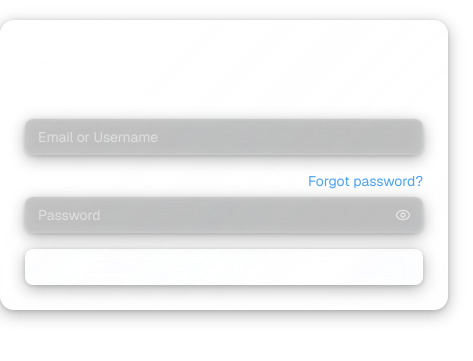
Test: LoginPage › shows authenticator step when login requires two-factor
Type "user@test.com" into the field with placeholder "Email or username" at (224, 137), box [25, 119, 423, 155]
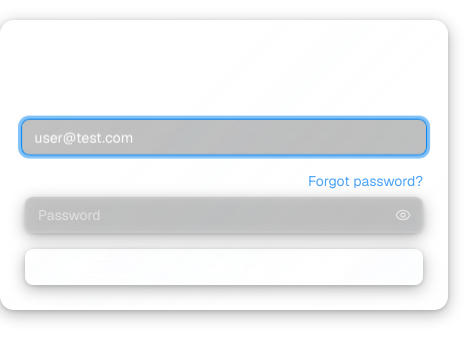
Type "secret" into the password field with placeholder "Password" at (224, 215), box [25, 197, 423, 233]
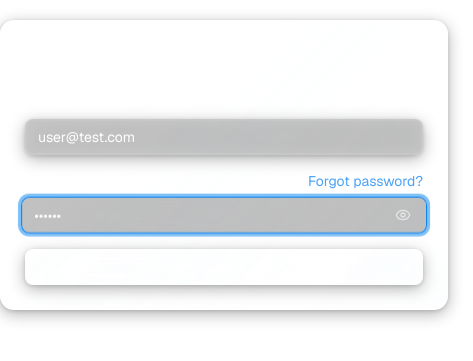
Click the button "Sign in" at (224, 267), box [25, 249, 423, 285]
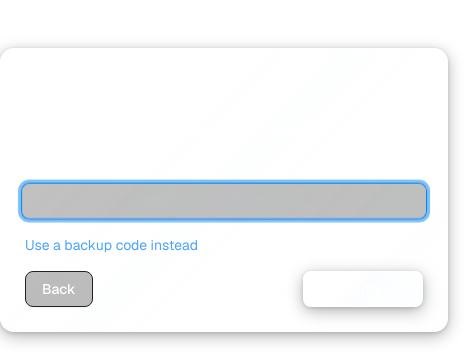
Expected: the field labelled "Authentication code" is shown, [21, 183, 427, 219]
Expected: the button "Verify" is shown, [303, 271, 423, 307]
Expected: the button "Back" is shown, [25, 271, 93, 307]
